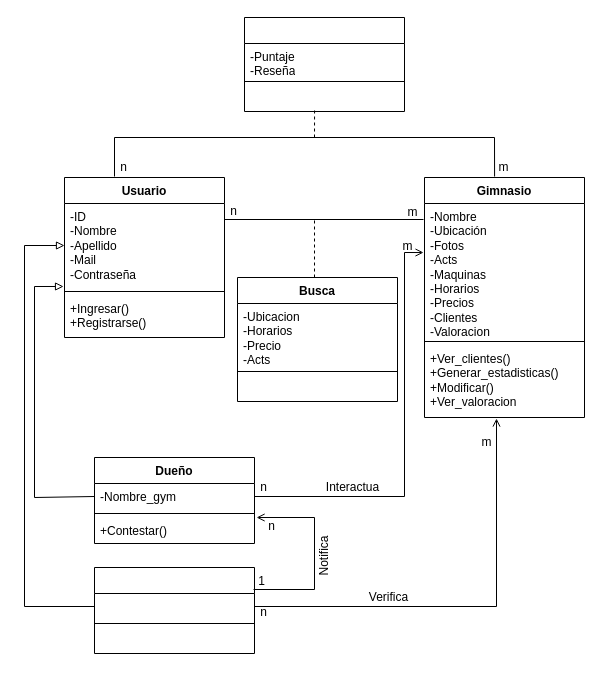
The diagram is 602 pixels wide and 674 high, and some of its shapes have lost their labels. Each missing label, with the box of its shape:
Administrador: (94, 566, 254, 654)
Valora: (244, 16, 404, 112)
